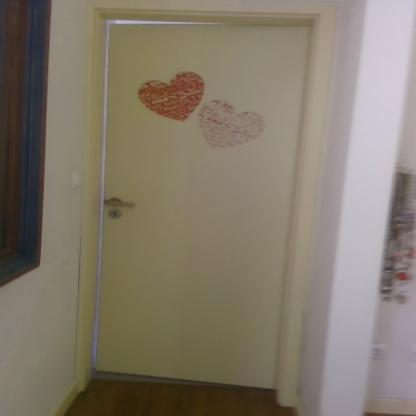door: (100, 23, 281, 384)
lever: (104, 198, 140, 209)
